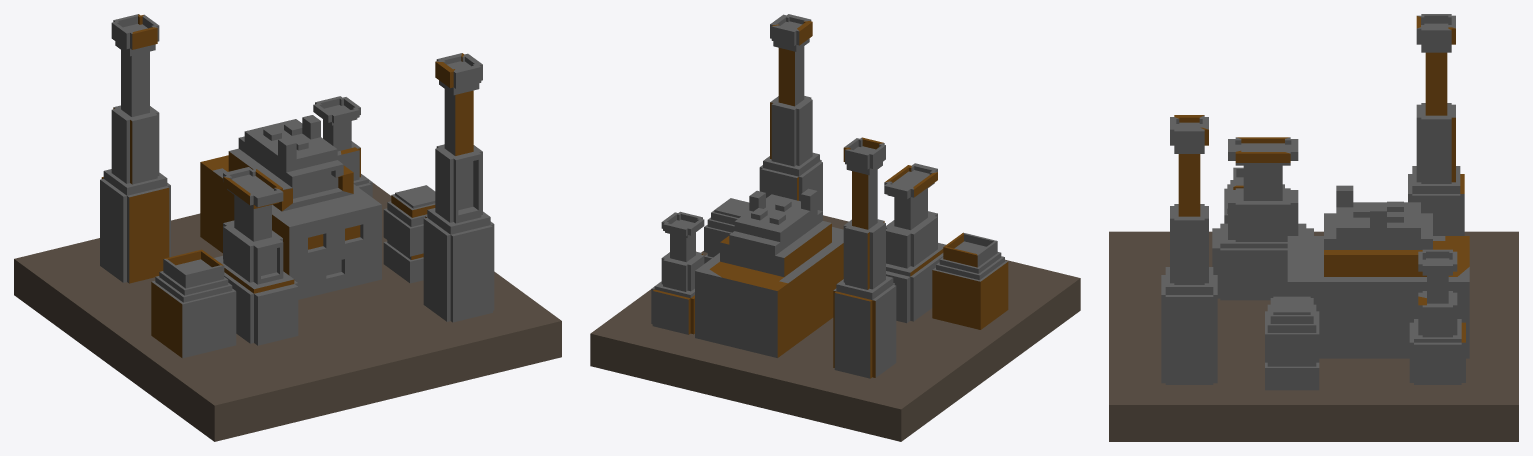
Rendered from energy-coal.glb.
3 renders of one model, left to right at view 1: azimuth 30°, elevation 25°; view 2: azimuth 150°, elevation 25°; view 3: azimuth 270°, elevation 25°, orthographic. The views are drawn at different scales.
Visible parts, largest first — view 1: Factory::Old; view 2: Factory::Old; view 3: Factory::Old.
Boxes of the visible parts, x1,y1,x2,y2 form: Factory::Old: (14,14,561,441); Factory::Old: (590,14,1080,441); Factory::Old: (1109,14,1518,441).
Bounding box in the file's own units: 1 × 0.7729 × 1.
